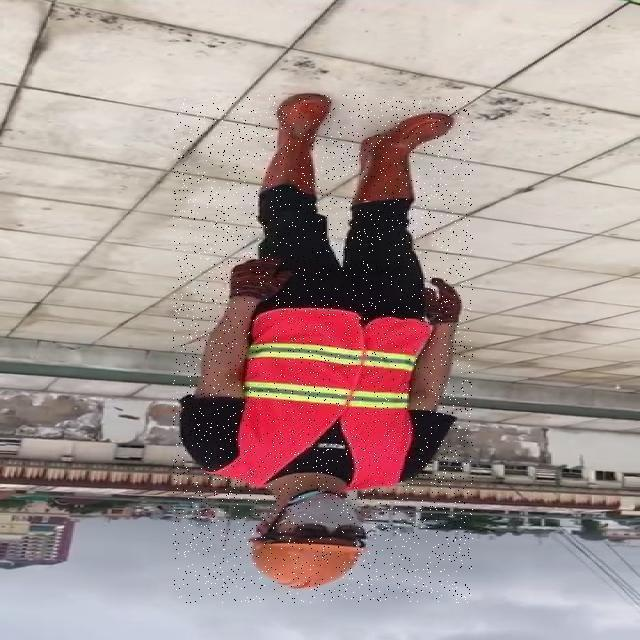Boots: (357, 115, 459, 205), (260, 97, 332, 192)
Gloves: (212, 255, 295, 308), (418, 274, 465, 322)
Helmet: (238, 539, 370, 593)
Vest: (238, 310, 427, 486)
